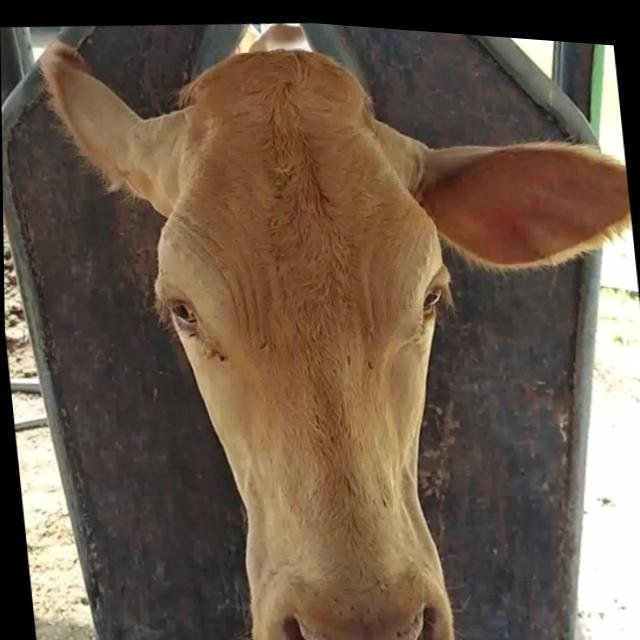cowFace: (128, 17, 487, 640)
